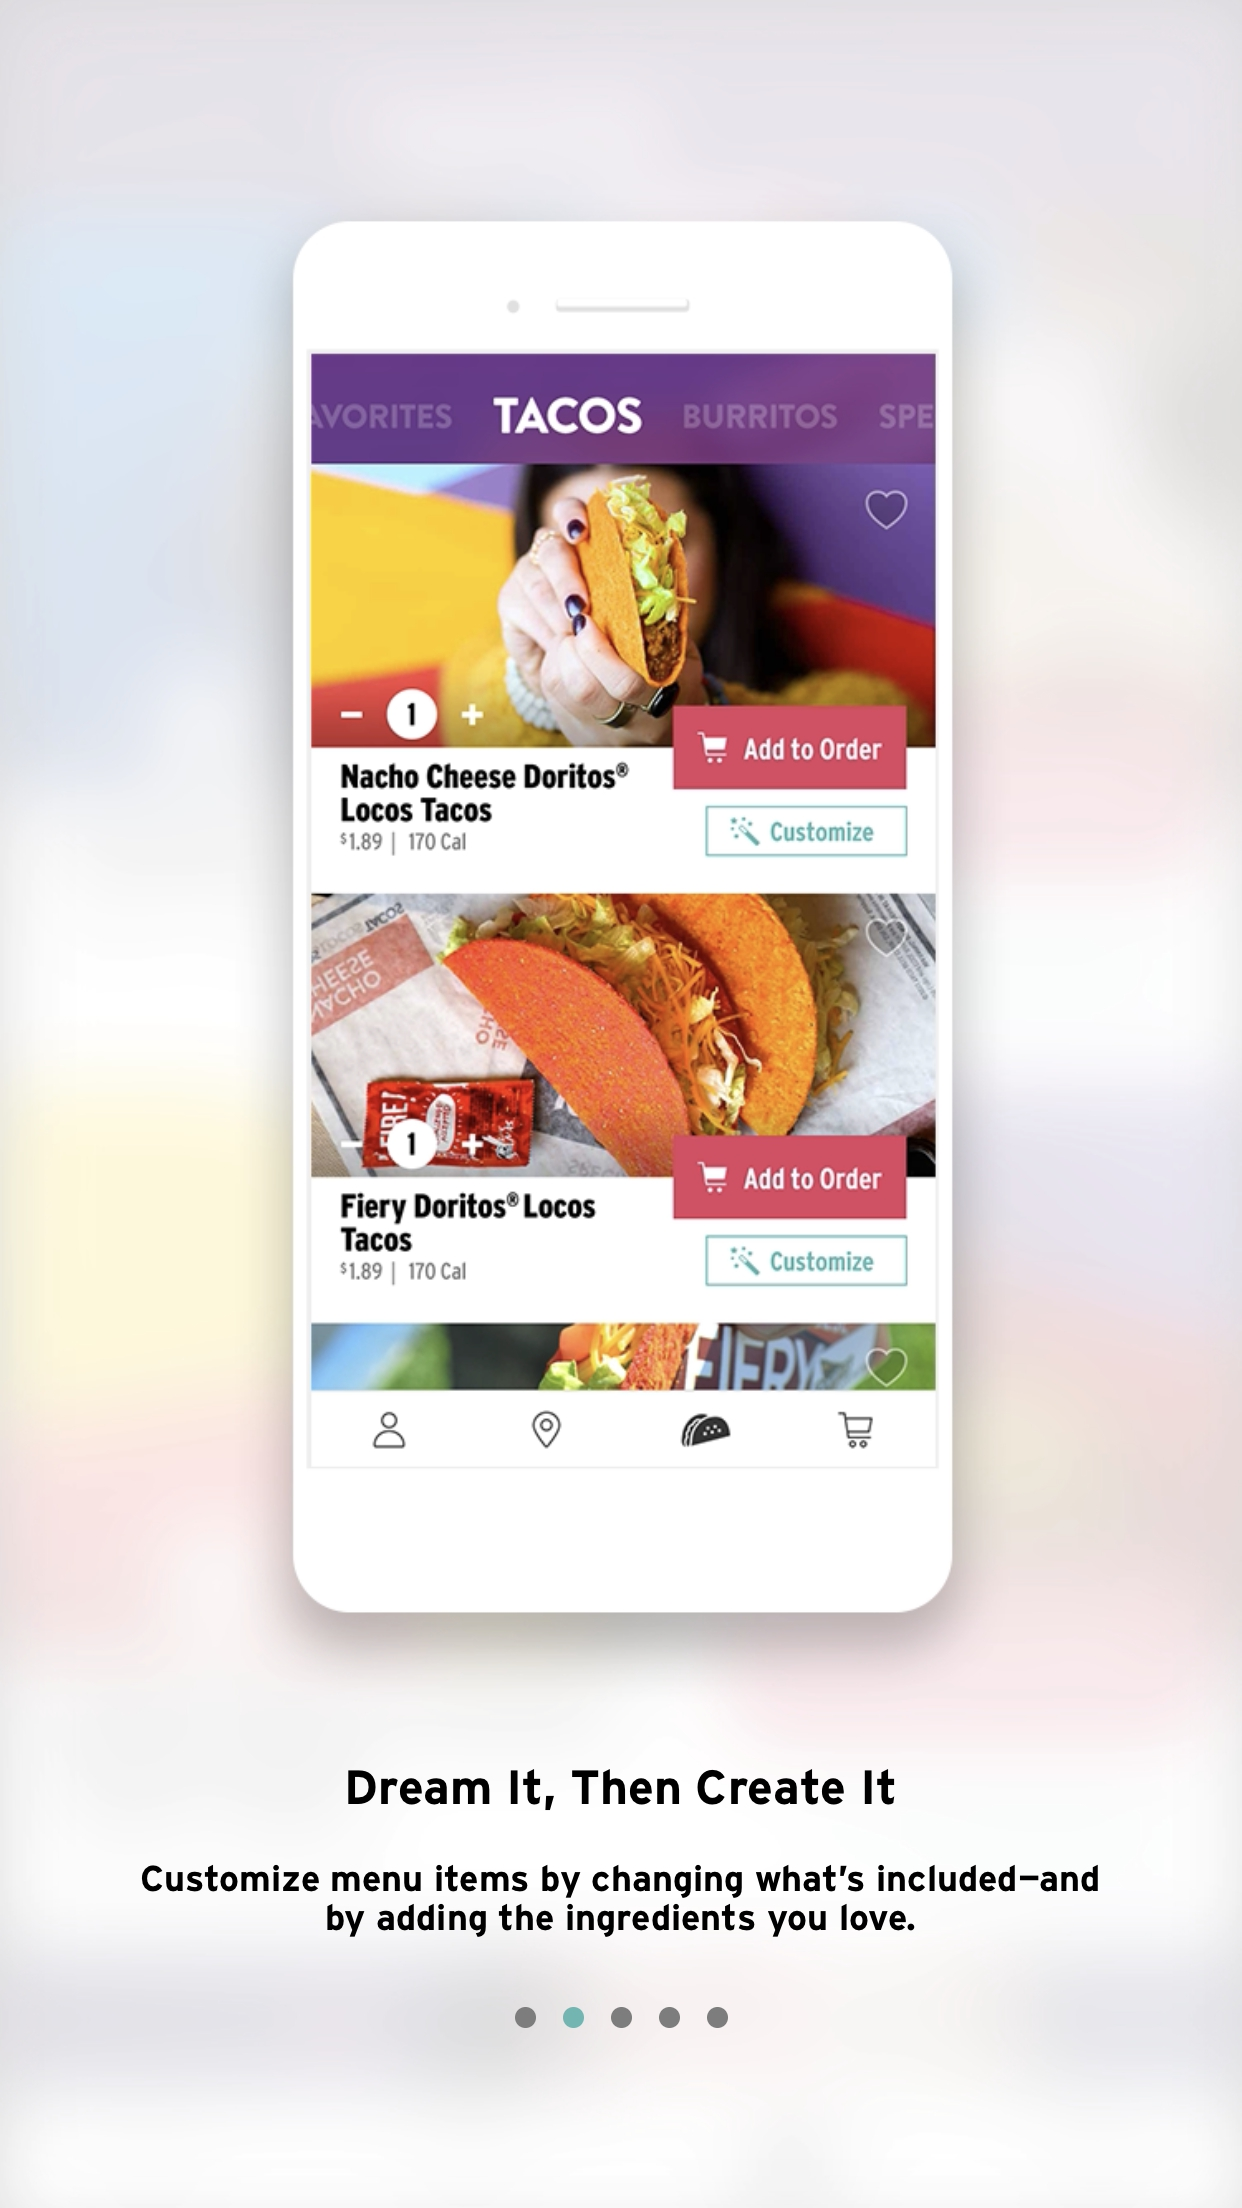Image: (293, 220, 954, 1614)
PageIndicator: (516, 2005, 729, 2029)
Text: (143, 1862, 1099, 1938), (347, 1768, 896, 1811)
